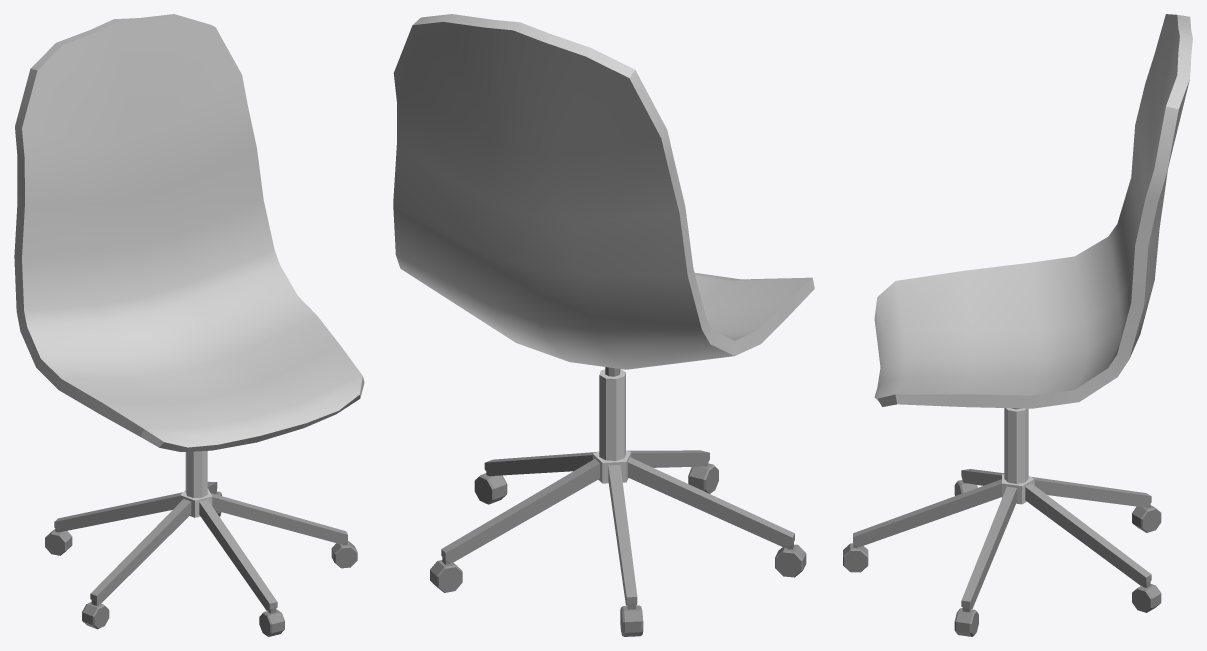
Rendered from PC_Chair1_C2.fbx.
3 views of the same model, side by side, from view 1: azimuth 30°, elevation 25°; view 2: azimuth 150°, elevation 25°; view 3: azimuth 270°, elevation 25° (orthographic). The views are drawn at different scales.
Parts seen in each view (by area): view 1: PC_Chair1_C2; view 2: PC_Chair1_C2; view 3: PC_Chair1_C2.
Part boxes in pixels (box(x1,y1,x2,y2)): PC_Chair1_C2: box(14, 14, 364, 636); PC_Chair1_C2: box(393, 14, 814, 636); PC_Chair1_C2: box(843, 14, 1192, 636).
Size of the model in its own units: 64.14 by 113 by 67.1.
